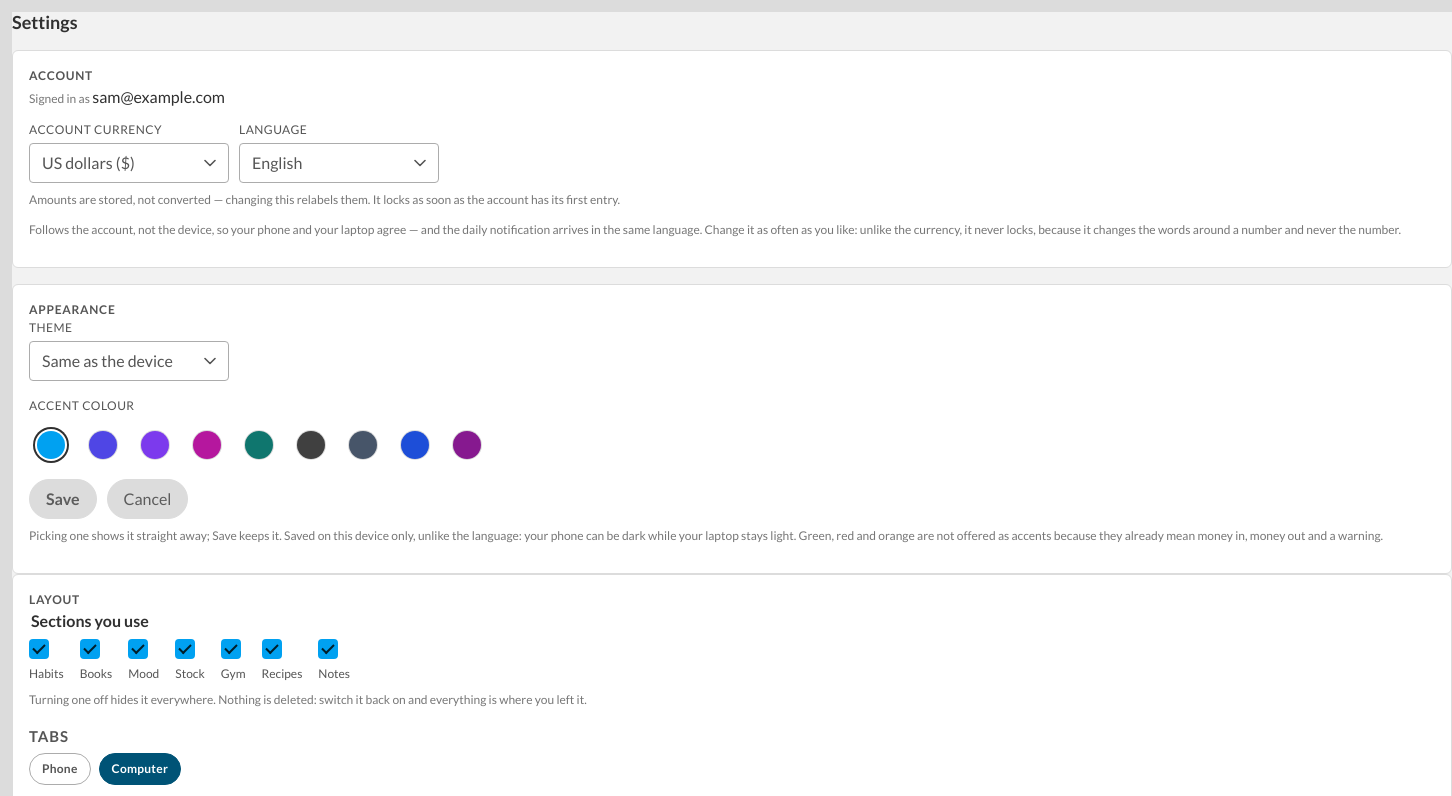
Test: SettingsPage › shows why the currency is locked rather than a generic failure
This screenshot has width=1452, height=796.
Expected: the text "sam@example.com" is shown, [92,87,225,106]
Step 1. Select "Euros (€)" in the dropdown labelled "Account currency" → (129,163), box [29,143,229,183]
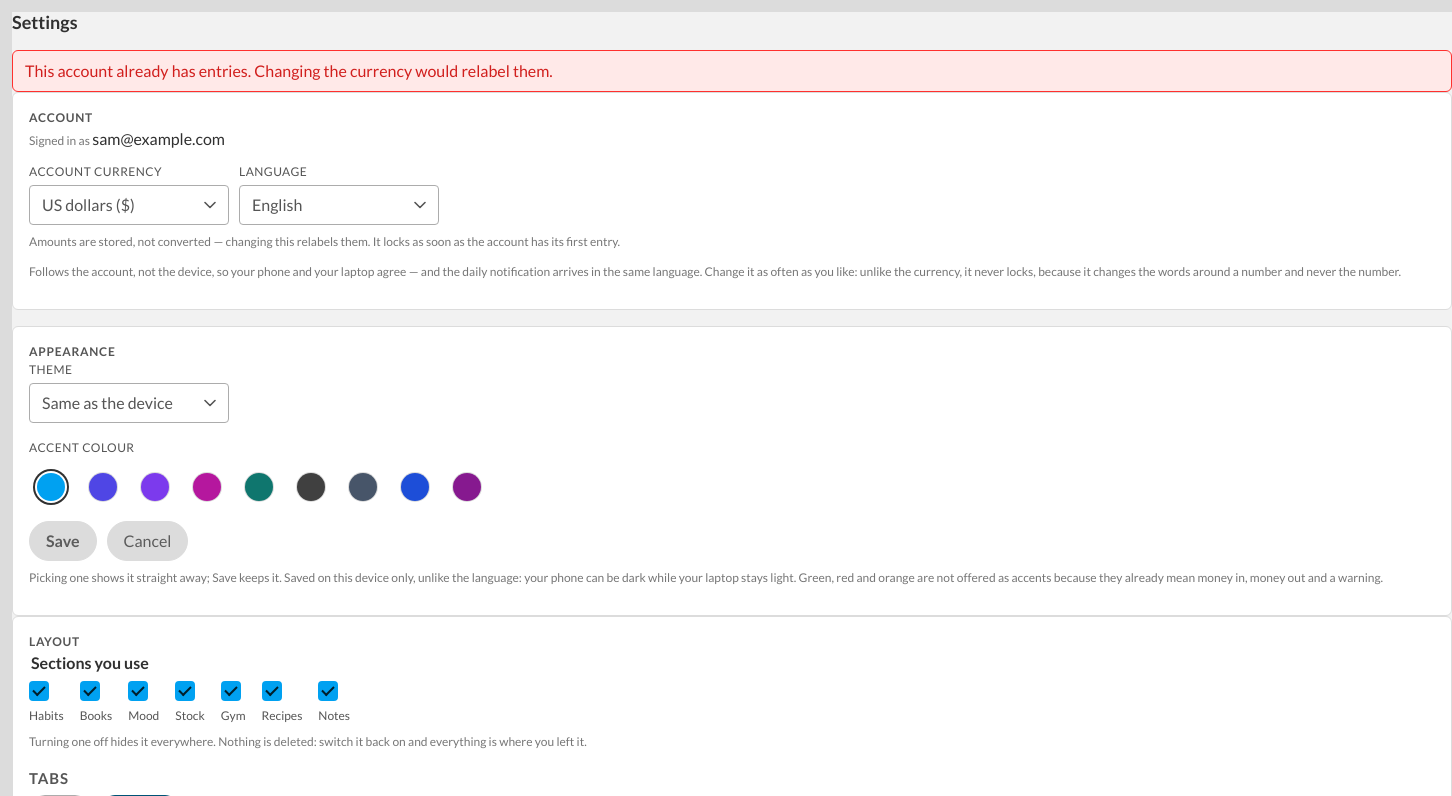
Now the message shows "already has entries", box [25,61,553,80]
